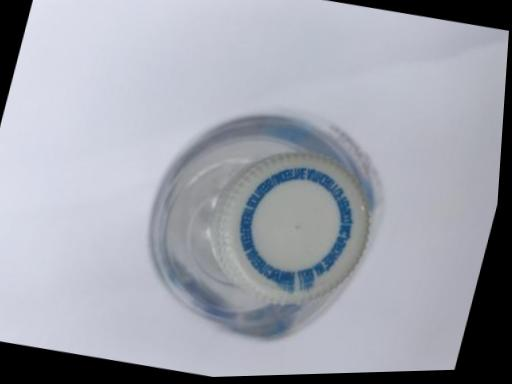plastic: (146, 113, 398, 373)
